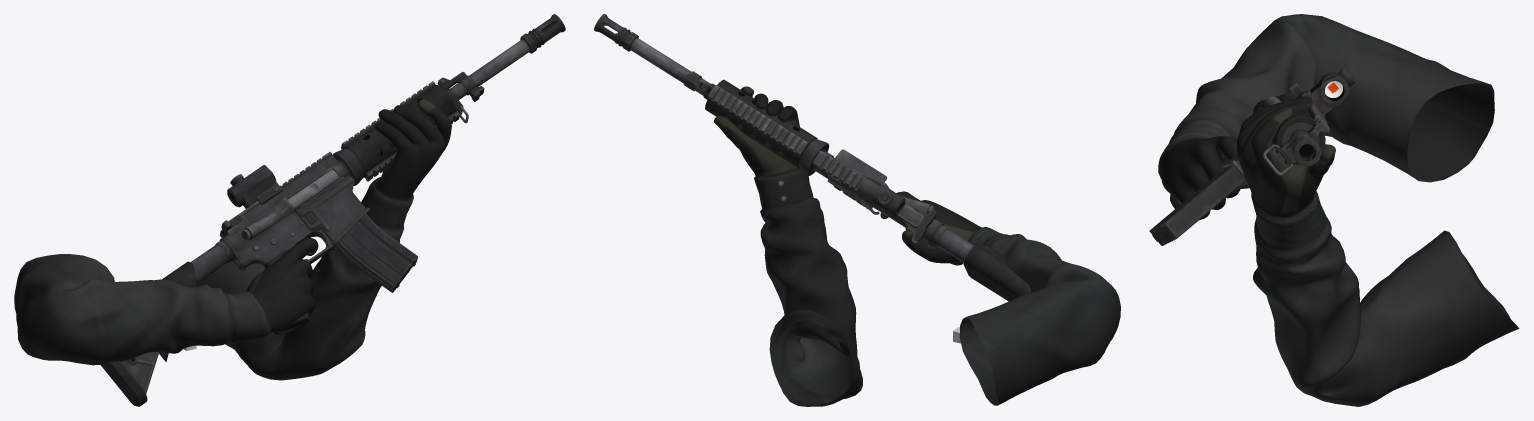
Rendered from gun_000166.obj.
3 views of the same model, side by side, from view 1: azimuth 30°, elevation 25°; view 2: azimuth 150°, elevation 25°; view 3: azimuth 270°, elevation 25° (orthographic). The views are drawn at different scales.
Visible parts, largest first — view 1: armmesh_arms_0, base_carbine_0, clip_carbine_0, scope_carbine_0, bolt_carbine_0; view 2: armmesh_arms_0, base_carbine_0, scope_carbine_0, lid_carbine_0; view 3: armmesh_arms_0, base_carbine_0, clip_carbine_0, scope_carbine_0.
Part boxes in pixels (x1,y1,x2,y2): armmesh_arms_0: (14, 99, 451, 380); base_carbine_0: (100, 14, 565, 406); clip_carbine_0: (335, 214, 417, 292); scope_carbine_0: (227, 165, 282, 208); bolt_carbine_0: (288, 169, 338, 207); armmesh_arms_0: (714, 86, 1120, 406); base_carbine_0: (594, 14, 1031, 301); scope_carbine_0: (857, 176, 905, 217); lid_carbine_0: (835, 149, 886, 182); armmesh_arms_0: (1158, 14, 1519, 406); base_carbine_0: (1170, 93, 1329, 208); clip_carbine_0: (1149, 165, 1245, 245); scope_carbine_0: (1298, 67, 1355, 124).
Size of the model in its own units: 104 by 59.02 by 46.46.
